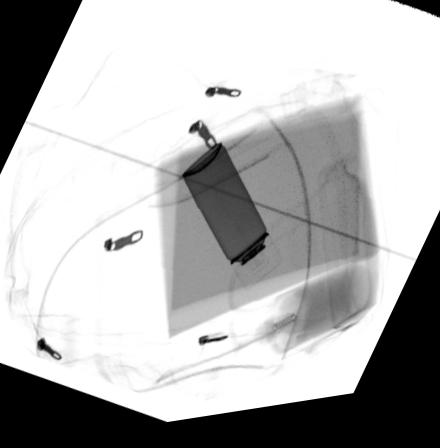Sprayer: (180, 147, 283, 300)
